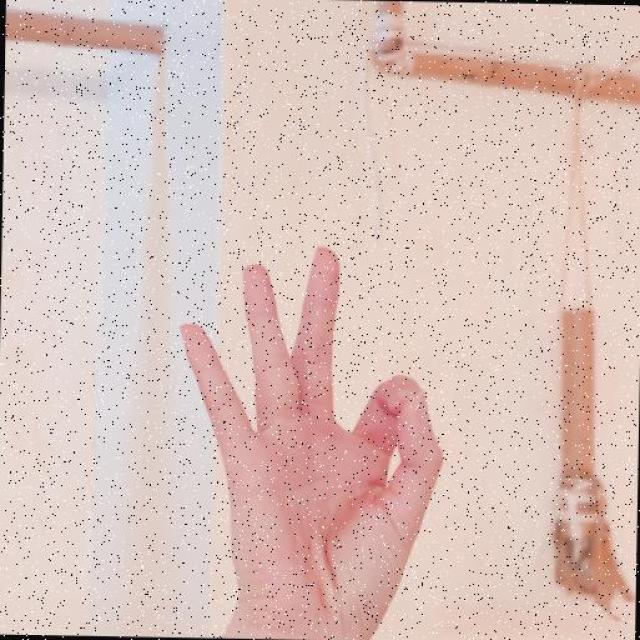F: (167, 239, 449, 640)
